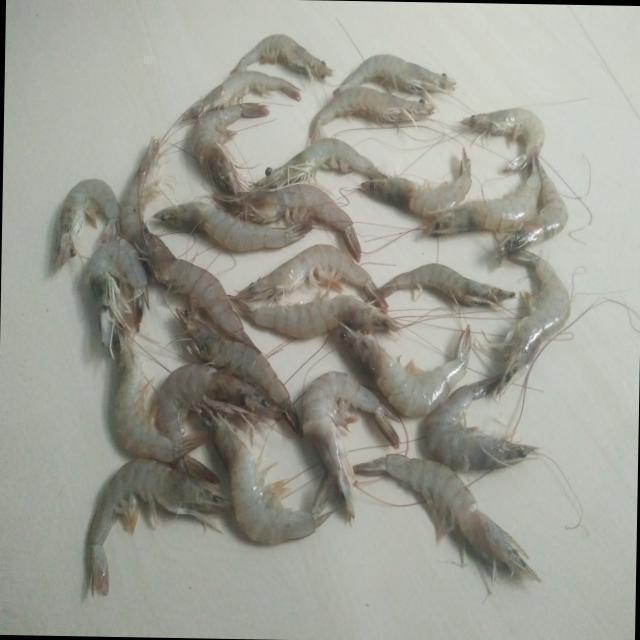shrimp: (354, 454, 540, 581), (87, 458, 230, 595), (208, 414, 335, 544), (140, 220, 259, 352), (176, 310, 299, 432), (302, 371, 399, 518), (337, 324, 472, 417), (114, 328, 207, 462), (213, 183, 360, 261), (497, 249, 571, 394), (426, 375, 537, 471), (234, 243, 387, 311), (154, 363, 281, 442), (426, 155, 542, 234), (360, 147, 472, 218), (153, 201, 312, 251), (236, 294, 400, 339), (497, 156, 569, 257), (189, 102, 268, 194), (84, 238, 149, 348), (309, 85, 434, 141), (253, 136, 386, 188), (253, 136, 385, 188), (180, 69, 300, 120), (118, 134, 158, 283), (379, 262, 515, 305), (55, 178, 119, 265), (461, 106, 545, 171), (333, 53, 456, 94), (232, 32, 332, 78)
